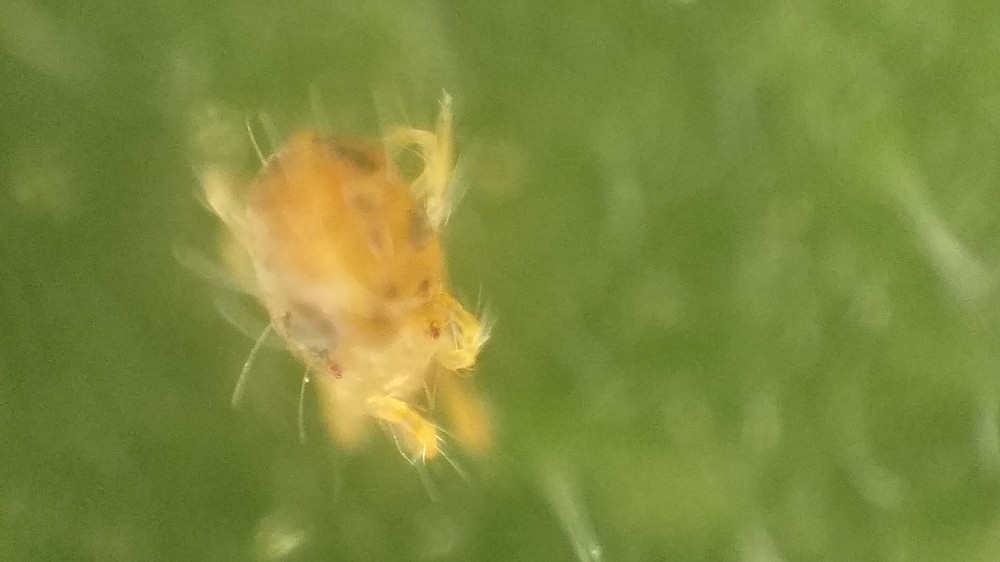Aracnido Rojo: (170, 95, 534, 492)
